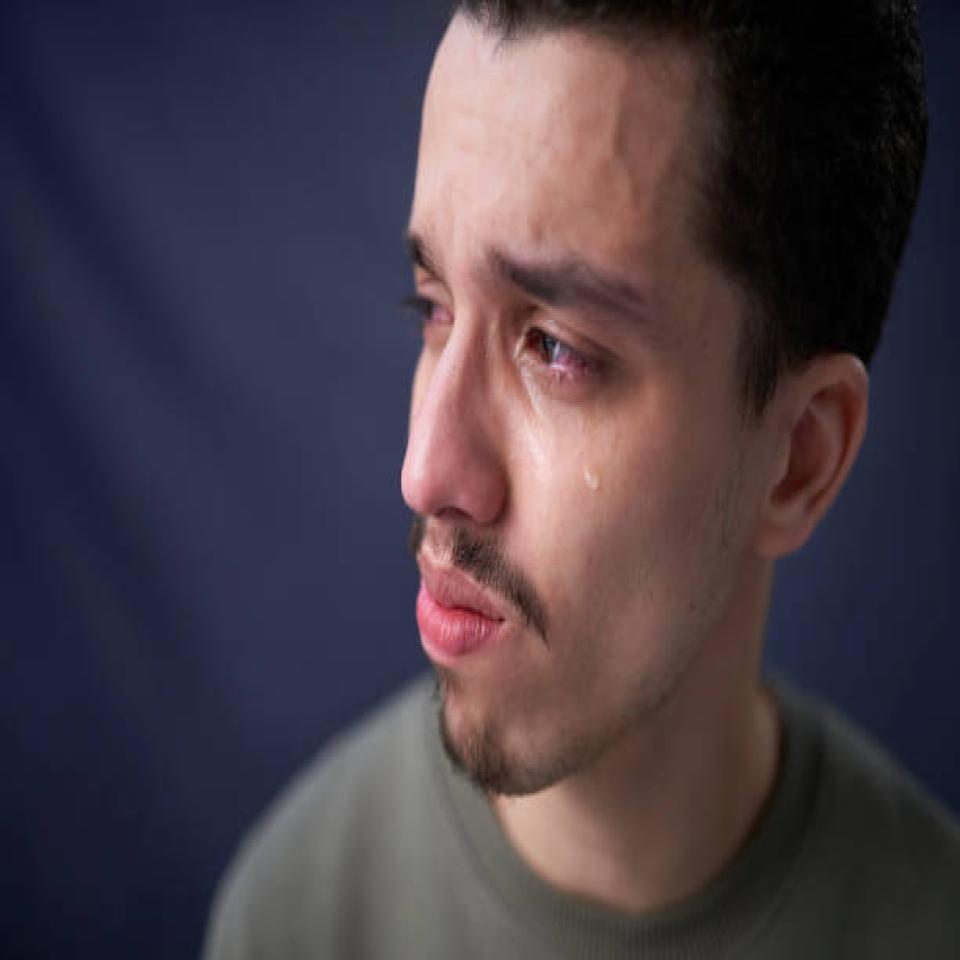Sadness: (402, 106, 870, 797)
